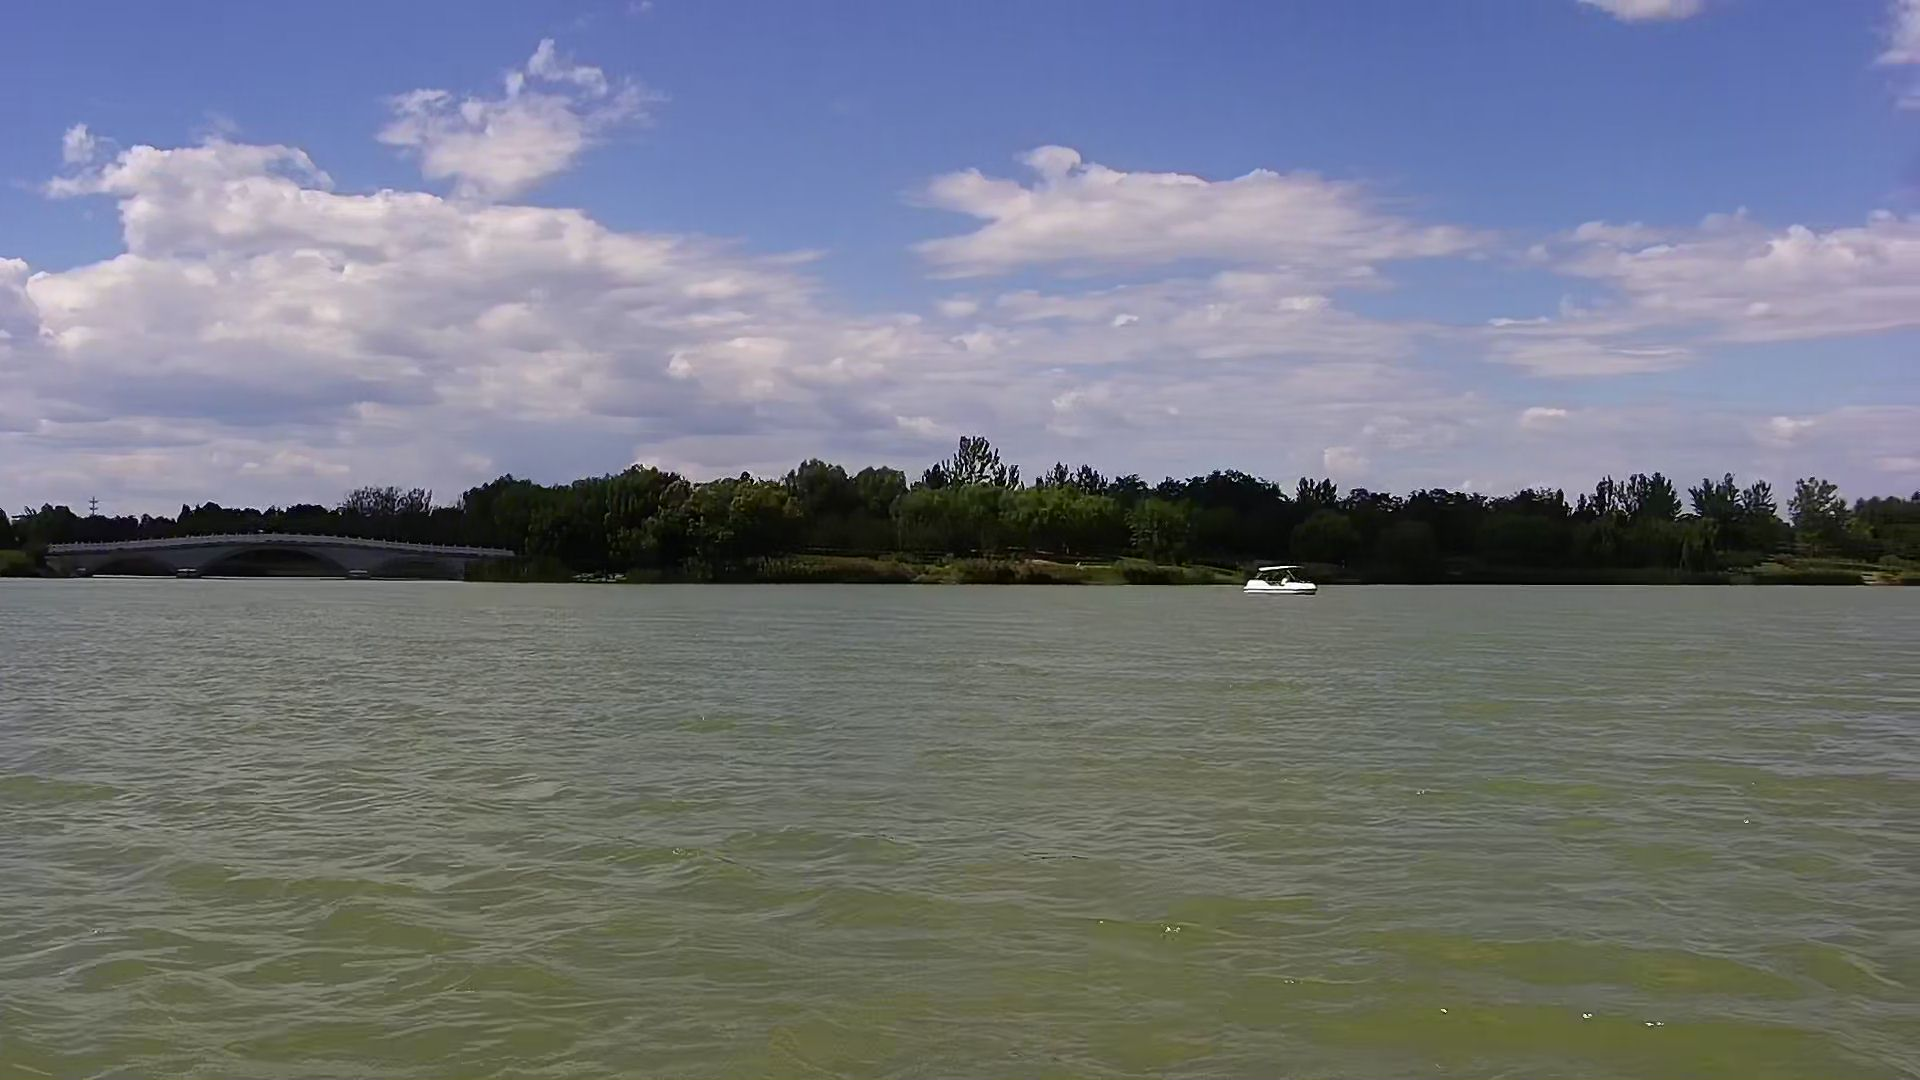boat: (1238, 556, 1327, 604)
bridge: (47, 527, 518, 583)
